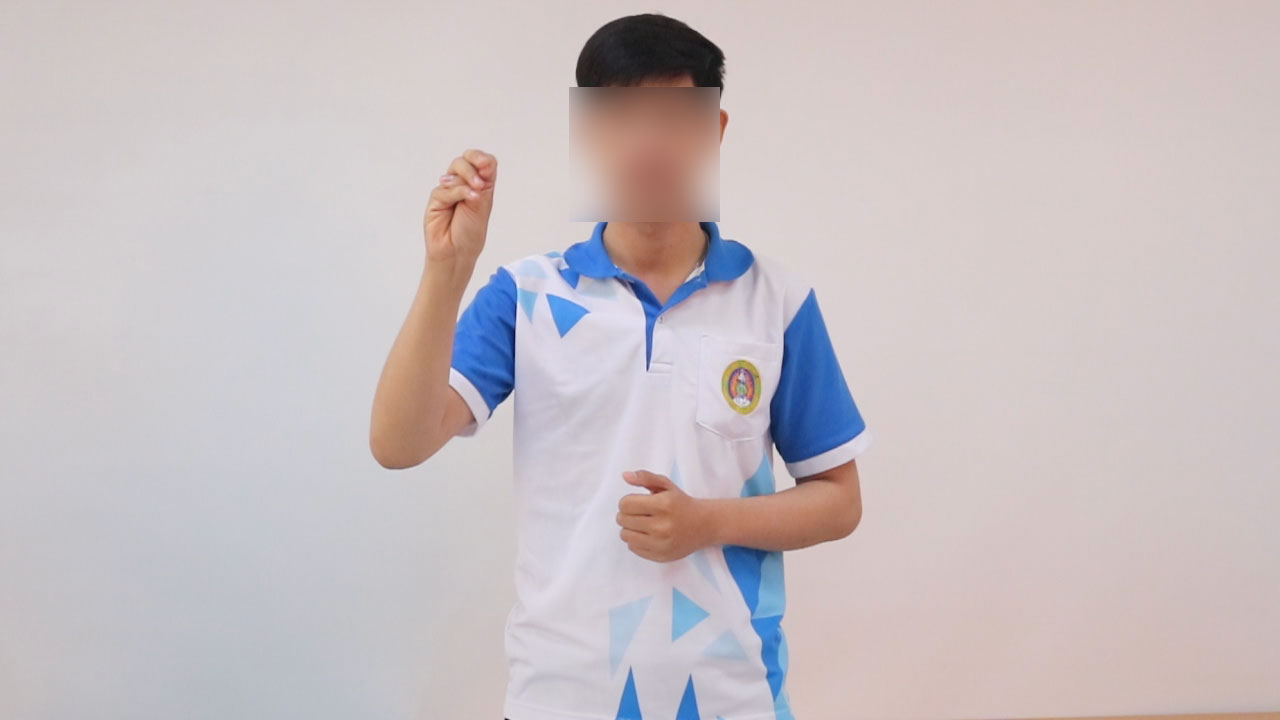mor: (410, 129, 509, 281)
